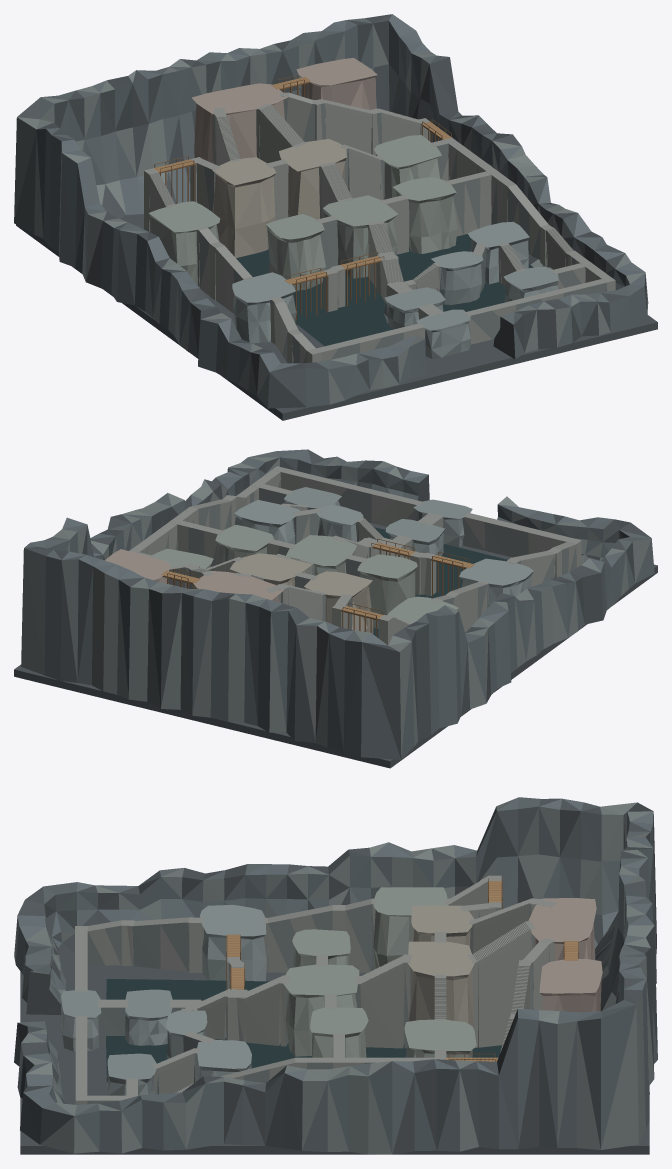
File: goblin_cave_natural.fbx
3 renders of one model, top to bottom at view 1: azimuth 30°, elevation 25°; view 2: azimuth 150°, elevation 25°; view 3: azimuth 270°, elevation 25°, orthographic. The views are drawn at different scales.
Parts seen in each view (by area): view 1: RockWall_Continuous_CaveRim, Water_CentralAbyss_Placeholder, Abyss_Bedrock_Foundation, Terrain_L3_Zone12, Terrain_L4_Zone09, Terrain_L2_Zone07, Terrain_L2_Zone06, Terrain_L2_Zone14, Terrain_L3_Zone08, Terrain_L4_Zone10, Terrain_L1_Zone15, Terrain_L2_Zone11 (+28 smaller); view 2: RockWall_Continuous_CaveRim, Abyss_Bedrock_Foundation, RockPassage_C_01_03_01, RockPassage_B_01_15_01, Terrain_L2_Zone06, Terrain_L3_Zone12, Terrain_L1_Zone15, Terrain_L1_Zone05, Terrain_L2_Zone14, Terrain_L3_Zone08, Terrain_L2_Zone07, Terrain_L4_Zone09 (+16 smaller); view 3: RockWall_Continuous_CaveRim, Abyss_Bedrock_Foundation, Water_CentralAbyss_Placeholder, Terrain_L3_Zone08, Terrain_L2_Zone14, Terrain_L1_Zone15, Stairs_A_08_09_01_RockBody, Terrain_L2_Zone11, Terrain_L4_Zone10, Terrain_L4_Zone09, Stairs_A_14_08_01_RockBody, Ramp_B_01_15_03 (+30 smaller).
Boxes of the visible parts, bbox=[...] form: RockWall_Continuous_CaveRim: bbox=[14, 14, 648, 408]; Water_CentralAbyss_Placeholder: bbox=[236, 234, 533, 346]; Abyss_Bedrock_Foundation: bbox=[16, 214, 657, 420]; Terrain_L3_Zone12: bbox=[212, 157, 276, 257]; Terrain_L4_Zone09: bbox=[192, 83, 288, 163]; Terrain_L2_Zone07: bbox=[393, 177, 457, 253]; Terrain_L2_Zone06: bbox=[266, 214, 325, 290]; Terrain_L2_Zone14: bbox=[323, 195, 398, 278]; Terrain_L3_Zone08: bbox=[279, 139, 346, 219]; Terrain_L4_Zone10: bbox=[296, 58, 377, 109]; Terrain_L1_Zone15: bbox=[232, 272, 296, 343]; Terrain_L2_Zone11: bbox=[148, 201, 220, 285]; RockWall_Continuous_CaveRim: bbox=[21, 449, 654, 759]; Abyss_Bedrock_Foundation: bbox=[14, 522, 657, 768]; RockPassage_C_01_03_01: bbox=[280, 468, 423, 526]; RockPassage_B_01_15_01: bbox=[462, 512, 571, 557]; Terrain_L2_Zone06: bbox=[357, 554, 417, 628]; Terrain_L3_Zone12: bbox=[304, 571, 373, 633]; Terrain_L1_Zone15: bbox=[459, 558, 533, 606]; Terrain_L1_Zone05: bbox=[234, 500, 299, 544]; Terrain_L2_Zone14: bbox=[286, 535, 356, 575]; Terrain_L3_Zone08: bbox=[230, 553, 312, 586]; Terrain_L2_Zone07: bbox=[215, 525, 273, 564]; Terrain_L4_Zone09: bbox=[193, 571, 283, 602]; RockWall_Continuous_CaveRim: bbox=[14, 797, 657, 1154]; Abyss_Bedrock_Foundation: bbox=[20, 943, 649, 1154]; Water_CentralAbyss_Placeholder: bbox=[106, 979, 502, 1094]; Terrain_L3_Zone08: bbox=[408, 941, 474, 1027]; Terrain_L2_Zone14: bbox=[283, 964, 359, 1056]; Terrain_L1_Zone15: bbox=[200, 904, 266, 981]; Stairs_A_08_09_01_RockBody: bbox=[478, 934, 530, 1047]; Terrain_L2_Zone11: bbox=[373, 887, 448, 968]; Terrain_L4_Zone10: bbox=[539, 959, 602, 1012]; Terrain_L4_Zone09: bbox=[528, 898, 596, 960]; Stairs_A_14_08_01_RockBody: bbox=[361, 967, 404, 1048]; Ramp_B_01_15_03: bbox=[132, 917, 190, 971].
Bounding box in the file's own units: 131 × 39.81 × 152.
